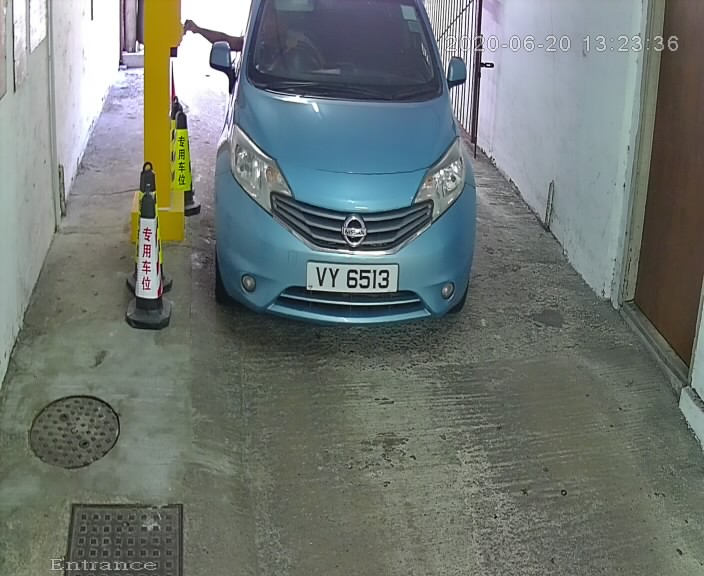privatecar: (207, 3, 482, 343)
